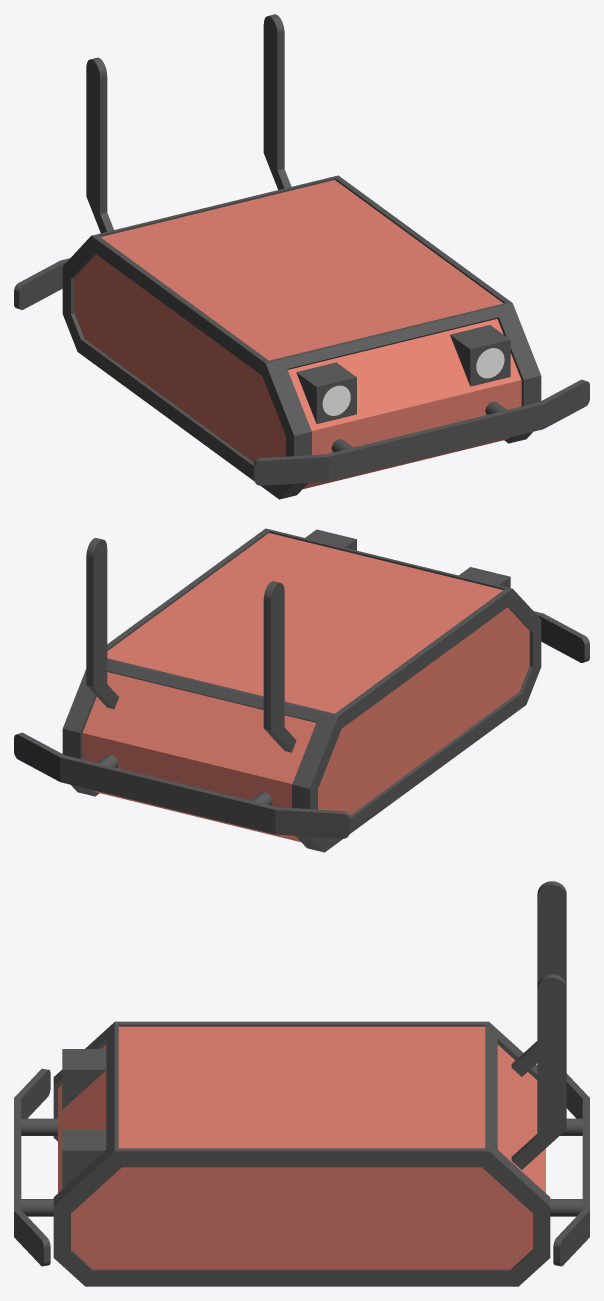
Rendered from ares_body.dae.
3 views of the same model, one above another, from view 1: azimuth 30°, elevation 25°; view 2: azimuth 150°, elevation 25°; view 3: azimuth 270°, elevation 25° (orthographic). The views are drawn at different scales.
Parts seen in each view (by area): view 1: ares_body v1; view 2: ares_body v1; view 3: ares_body v1.
Part boxes in pixels (box(x1,y1,x2,y2)): ares_body v1: box(14, 14, 589, 499); ares_body v1: box(14, 528, 589, 852); ares_body v1: box(14, 881, 589, 1286).
Bounding box in the file's own units: 284 × 393 × 220.
